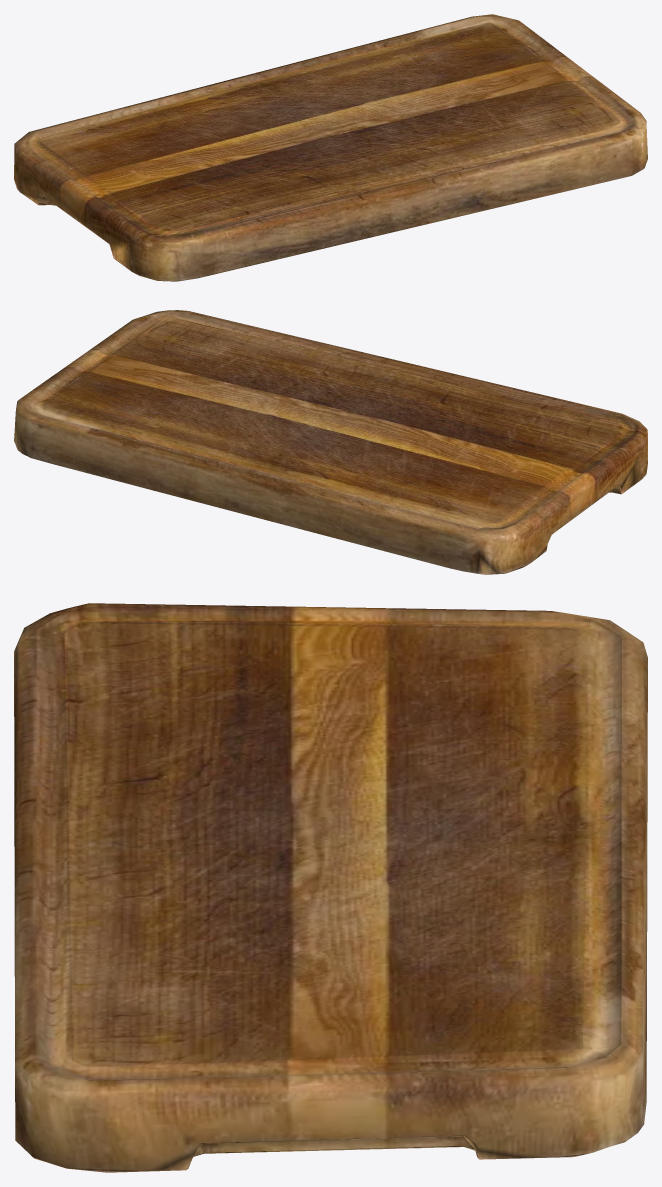
The model's file is wooden_cutting_board.glb.
3 renders of one model, top to bottom at view 1: azimuth 30°, elevation 25°; view 2: azimuth 150°, elevation 25°; view 3: azimuth 270°, elevation 25°, orthographic. The views are drawn at different scales.
Parts seen in each view (by area): view 1: wooden_cutting_board; view 2: wooden_cutting_board; view 3: wooden_cutting_board.
Boxes of the visible parts, <box> form: wooden_cutting_board: <box>14,14,647,281</box>; wooden_cutting_board: <box>14,310,647,574</box>; wooden_cutting_board: <box>14,603,647,1172</box>.
Size of the model in its own units: 0.4495 by 0.0408 by 0.2447.
Materials: 1 (1 with a texture image).
